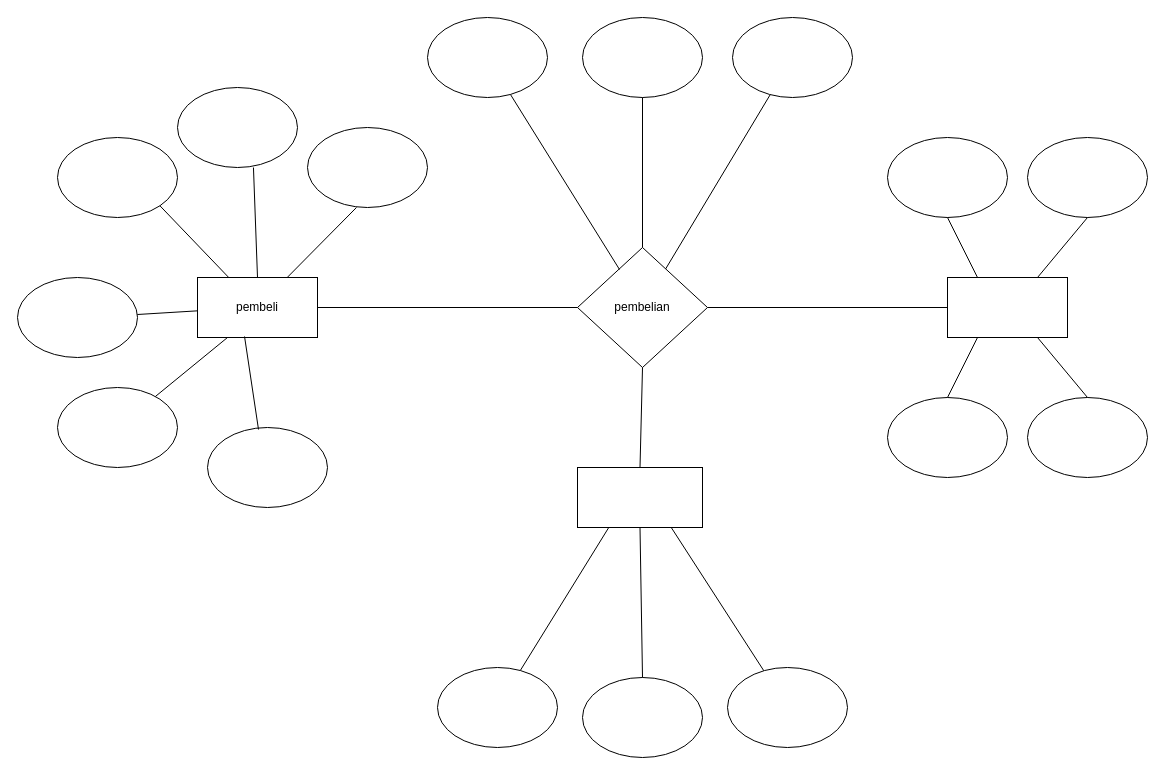
This 1165x775 diagram has some shape labels left out. The shapes that lost their labels are listed below. From the top down, each one's centre as x and y in pixels, then its label:
point (1007, 307): produk
point (639, 497): penilaian
